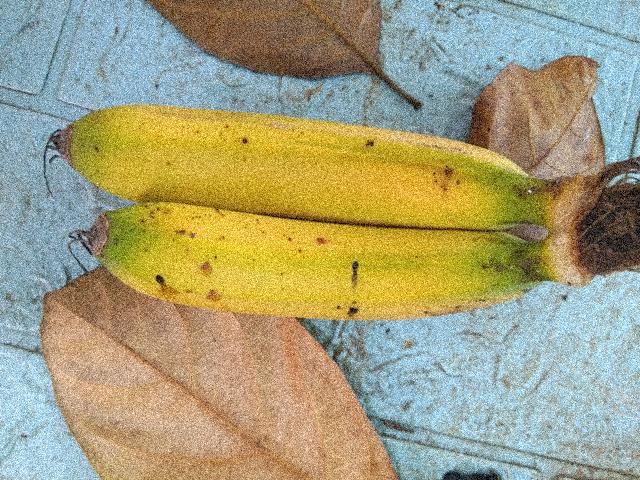freshripe: (65, 82, 535, 240)
ripe: (69, 194, 546, 353)
